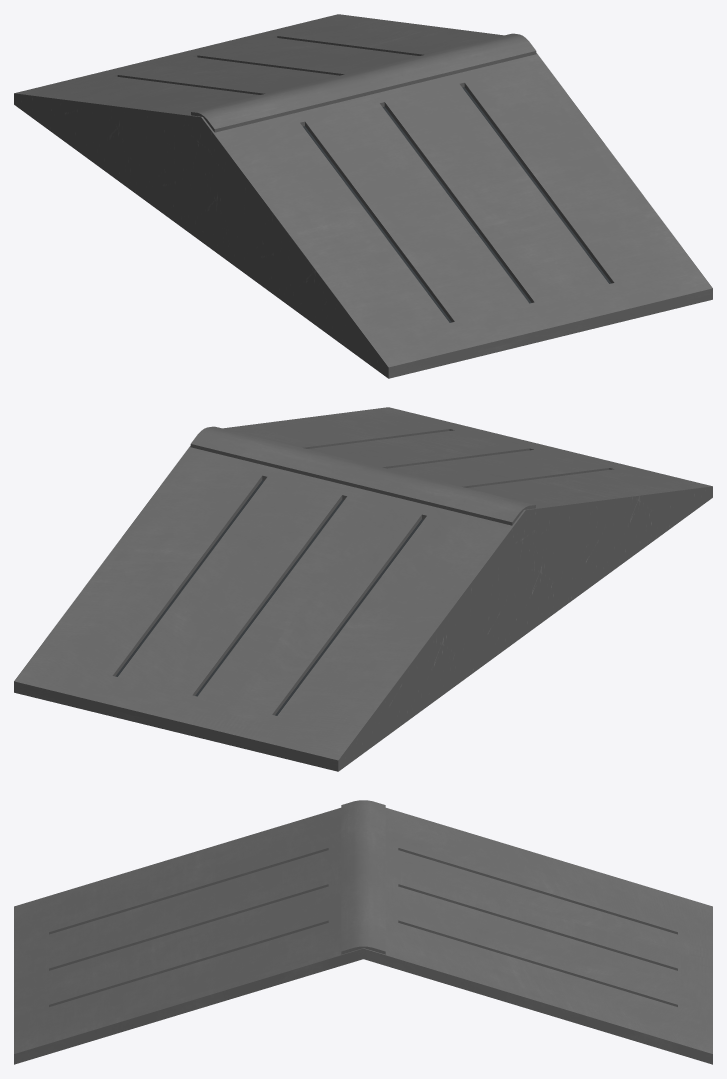
The model's file is SM06_Building_RoofPanel_Gable_03_End_01.fbx.
3 renders of one model, top to bottom at view 1: azimuth 30°, elevation 25°; view 2: azimuth 150°, elevation 25°; view 3: azimuth 270°, elevation 25°, orthographic. The views are drawn at different scales.
Visible parts, largest first — view 1: SM06_Building_RoofPanel_Gable_03_End_01; view 2: SM06_Building_RoofPanel_Gable_03_End_01; view 3: SM06_Building_RoofPanel_Gable_03_End_01.
Boxes of the visible parts, <box> form: SM06_Building_RoofPanel_Gable_03_End_01: <box>14,14,712,378</box>; SM06_Building_RoofPanel_Gable_03_End_01: <box>14,407,712,771</box>; SM06_Building_RoofPanel_Gable_03_End_01: <box>14,800,712,1064</box>.
Size of the model in its own units: 15 by 5.57 by 30.
